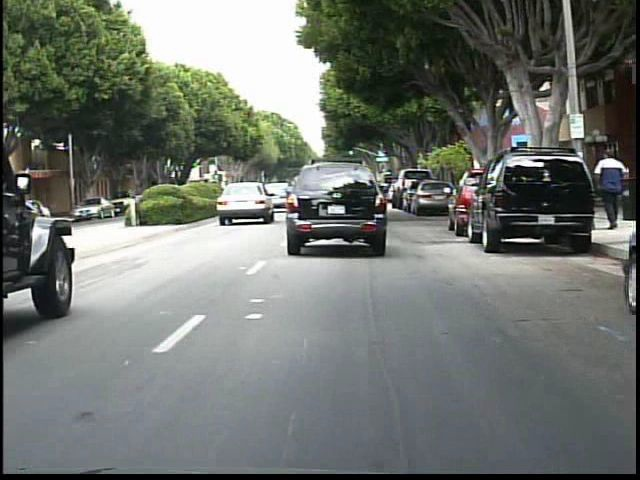person: (589, 142, 628, 233)
